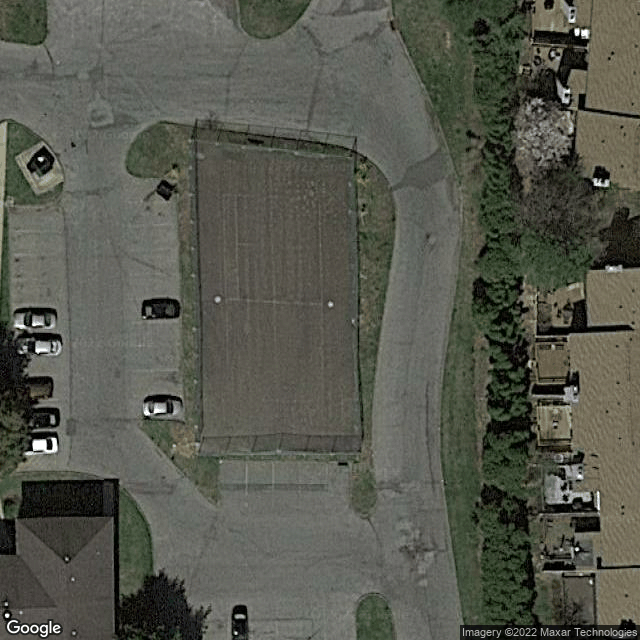Court: (220, 193, 329, 406)
